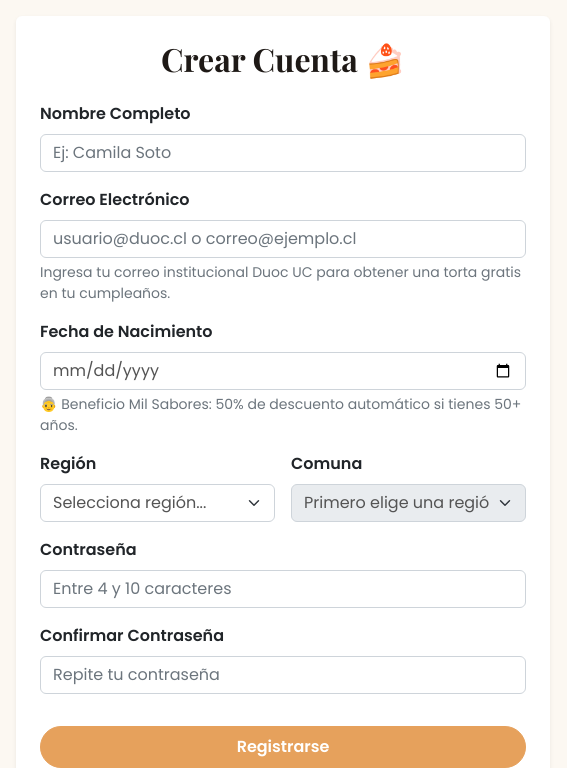
it: Registro Component Unit Tests › debe cargar dinámicamente las comunas al seleccionar una región
Check: the dropdown named "comuna" below "Comuna" is disabled, box [291, 484, 526, 522]
Select "Región de La Araucanía" in the dropdown named "region" below "Región": (158, 503) [40, 484, 275, 522]
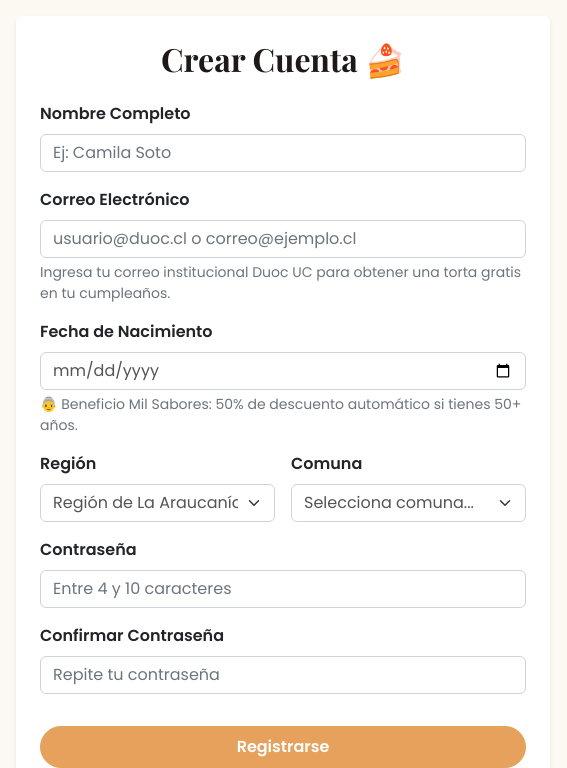
Check: the dropdown named "comuna" below "Comuna" is enabled, box [291, 484, 526, 522]
